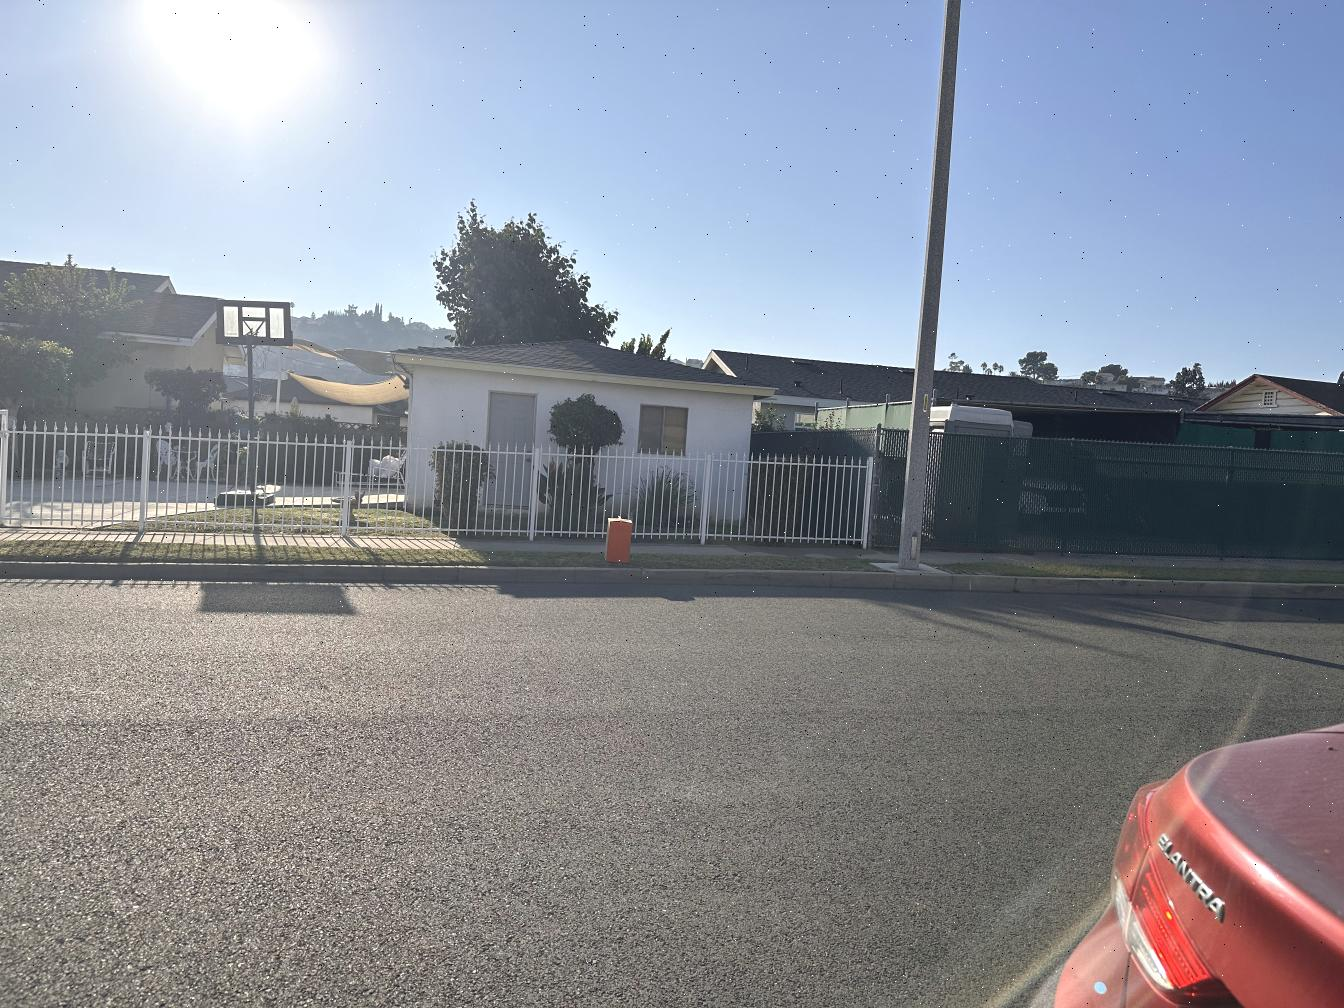curbs-laRr: (6, 557, 604, 588), (643, 563, 957, 596), (966, 572, 1214, 607), (1221, 578, 1344, 607)
orange box: (609, 519, 632, 562)
